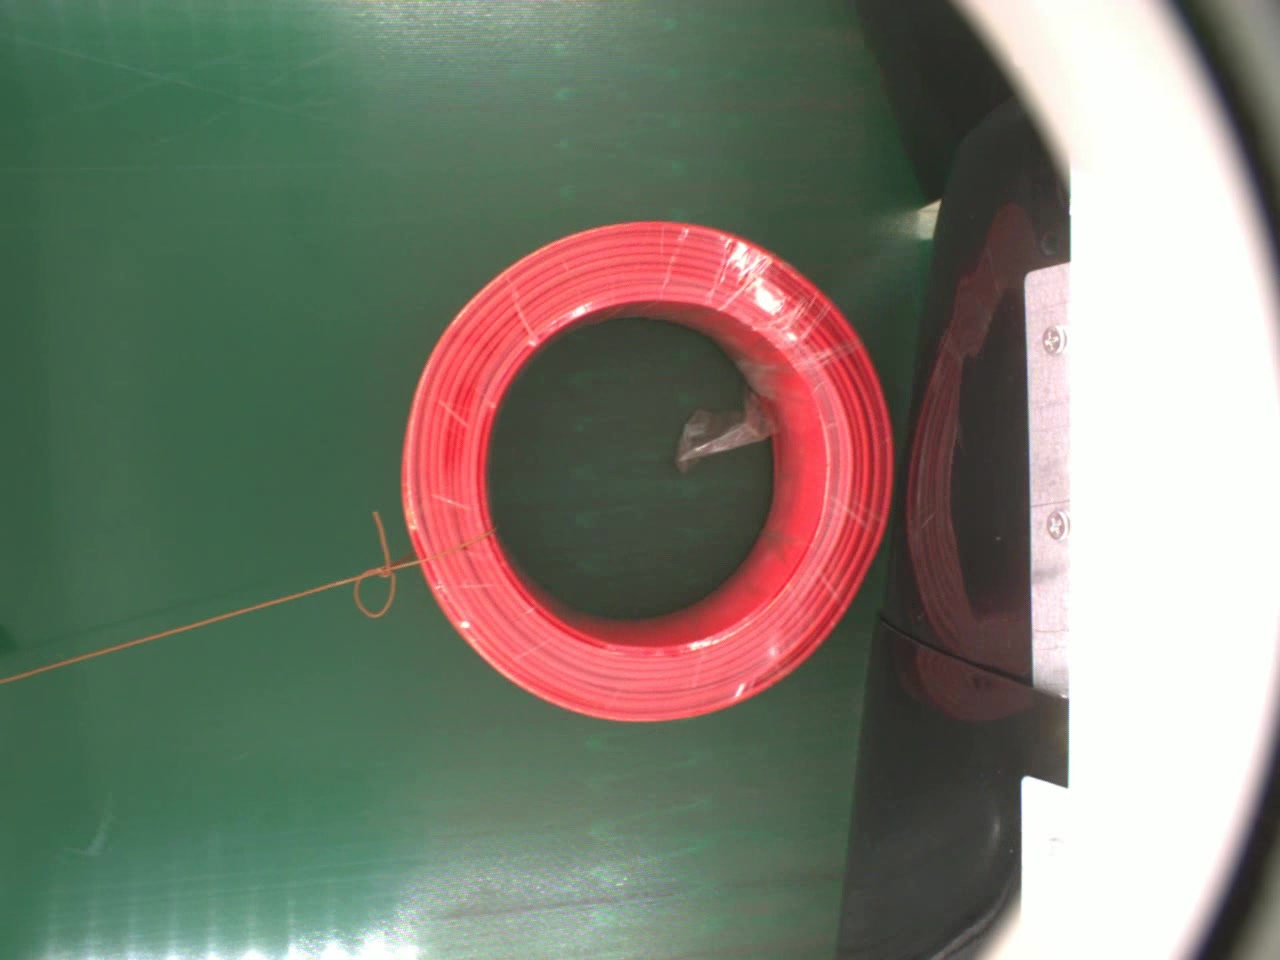red: (398, 215, 890, 720)
